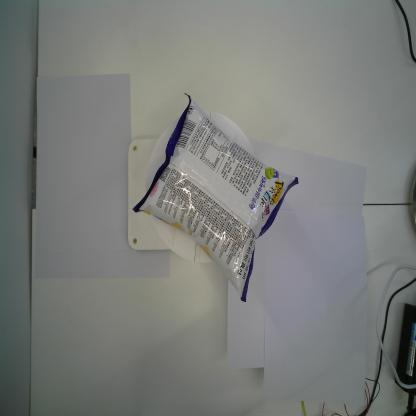Puffed Food: (132, 92, 299, 303)
